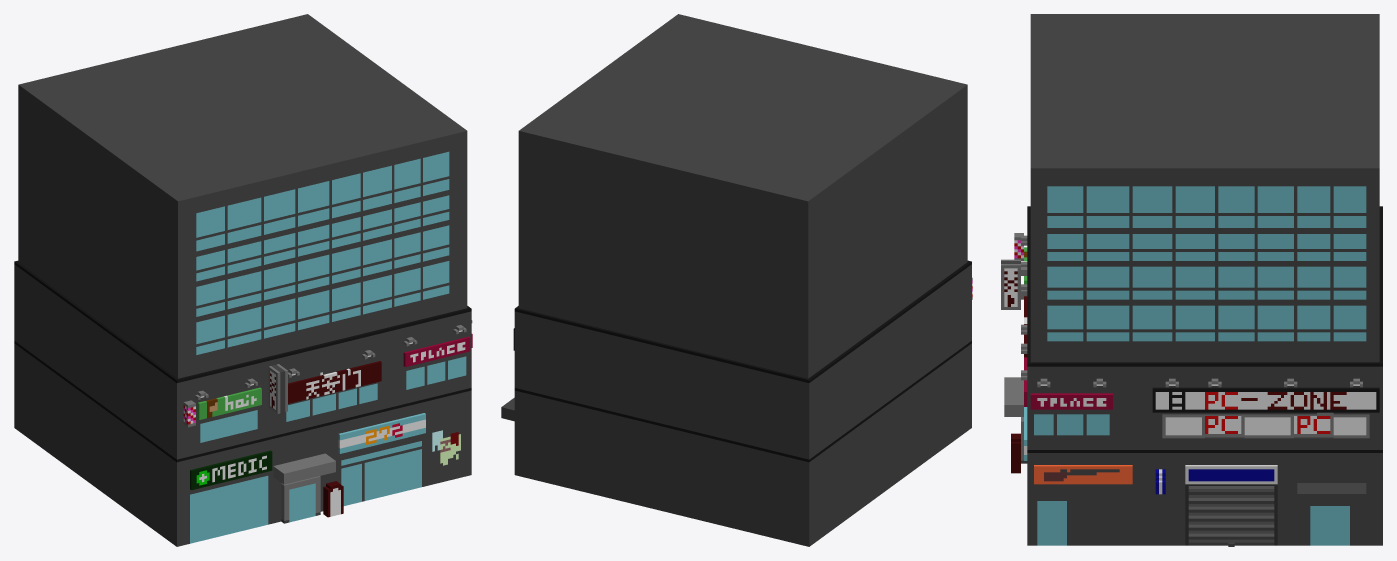
File: building.obj
The picture shows the model from 3 angles, left to right: view 1: azimuth 30°, elevation 25°; view 2: azimuth 150°, elevation 25°; view 3: azimuth 270°, elevation 25°; orthographic projection. The views are drawn at different scales.
Bounding box in the file's own units: 12.1 × 12.6 × 11.6.
1 material, 1 textured.
